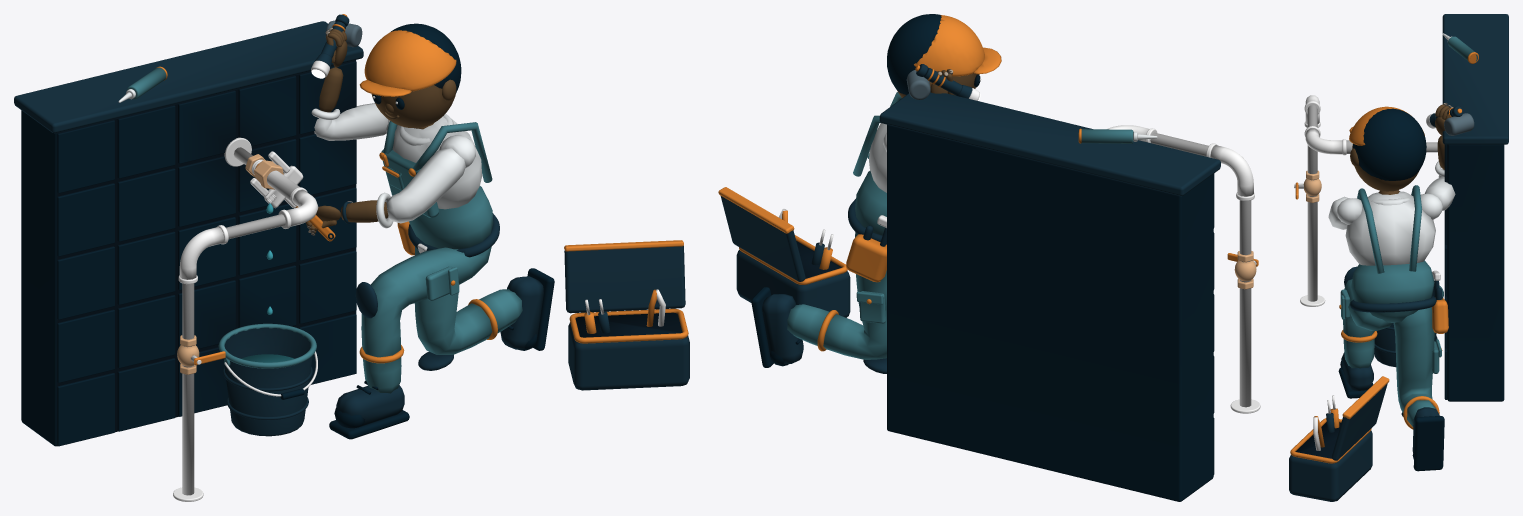
Rendered from bild-2.glb.
The picture shows the model from 3 angles, left to right: view 1: azimuth 30°, elevation 25°; view 2: azimuth 150°, elevation 25°; view 3: azimuth 270°, elevation 25°; orthographic projection. The views are drawn at different scales.
Parts seen in each view (by area): view 1: Fliese00, Abdeckung, Fachkraft1Schnur0, FachkraftBauch, Deckelrand, FachkraftArm1, Bodenrosette, Eimer, Fachkraft1Daumen, Eimerrand, Anschluss; view 2: Fachkraft1Schnur0, Abdeckung, Deckelrand, FachkraftBauch, Bodenrosette, FachkraftArm1, Eimerrand, Anschluss; view 3: Fachkraft1Schnur0, Abdeckung, FachkraftBauch, FachkraftArm1, Bodenrosette, Deckelrand, Fachkraft1Daumen, Fliese00, Eimer, Lappenrolle, Anschluss, Eimerrand.
Part boxes in pixels (bbox=[...]): Fliese00: bbox=[57, 61, 356, 446]; Abdeckung: bbox=[14, 14, 689, 426]; Fachkraft1Schnur0: bbox=[21, 23, 682, 446]; FachkraftBauch: bbox=[361, 121, 522, 393]; Deckelrand: bbox=[156, 14, 688, 365]; FachkraftArm1: bbox=[311, 103, 482, 228]; Bodenrosette: bbox=[173, 60, 665, 501]; Eimer: bbox=[223, 327, 312, 436]; Fachkraft1Daumen: bbox=[305, 29, 456, 233]; Eimerrand: bbox=[126, 67, 316, 368]; Anschluss: bbox=[177, 154, 283, 374]; Fachkraft1Schnur0: bbox=[751, 14, 1213, 501]; Abdeckung: bbox=[720, 64, 1220, 373]; Deckelrand: bbox=[718, 15, 1258, 351]; FachkraftBauch: bbox=[787, 92, 901, 359]; Bodenrosette: bbox=[778, 88, 1260, 413]; FachkraftArm1: bbox=[869, 123, 886, 192]; Eimerrand: bbox=[1081, 129, 1133, 143]; Anschluss: bbox=[1234, 251, 1256, 289]; Fachkraft1Schnur0: bbox=[1295, 108, 1504, 471]; Abdeckung: bbox=[1289, 14, 1508, 501]; FachkraftBauch: bbox=[1340, 185, 1441, 426]; FachkraftArm1: bbox=[1328, 161, 1455, 265]; Bodenrosette: bbox=[1294, 95, 1437, 450]; Deckelrand: bbox=[1290, 52, 1478, 463]; Fachkraft1Daumen: bbox=[1350, 104, 1450, 194]; Fliese00: bbox=[1444, 144, 1447, 399]; Eimer: bbox=[1374, 286, 1436, 367]; Lappenrolle: bbox=[1444, 113, 1474, 135]; Anschluss: bbox=[1303, 170, 1321, 202]; Eimerrand: bbox=[1434, 36, 1477, 297].
Size of the model in its own units: 2.37 by 1.46 by 0.9634.
